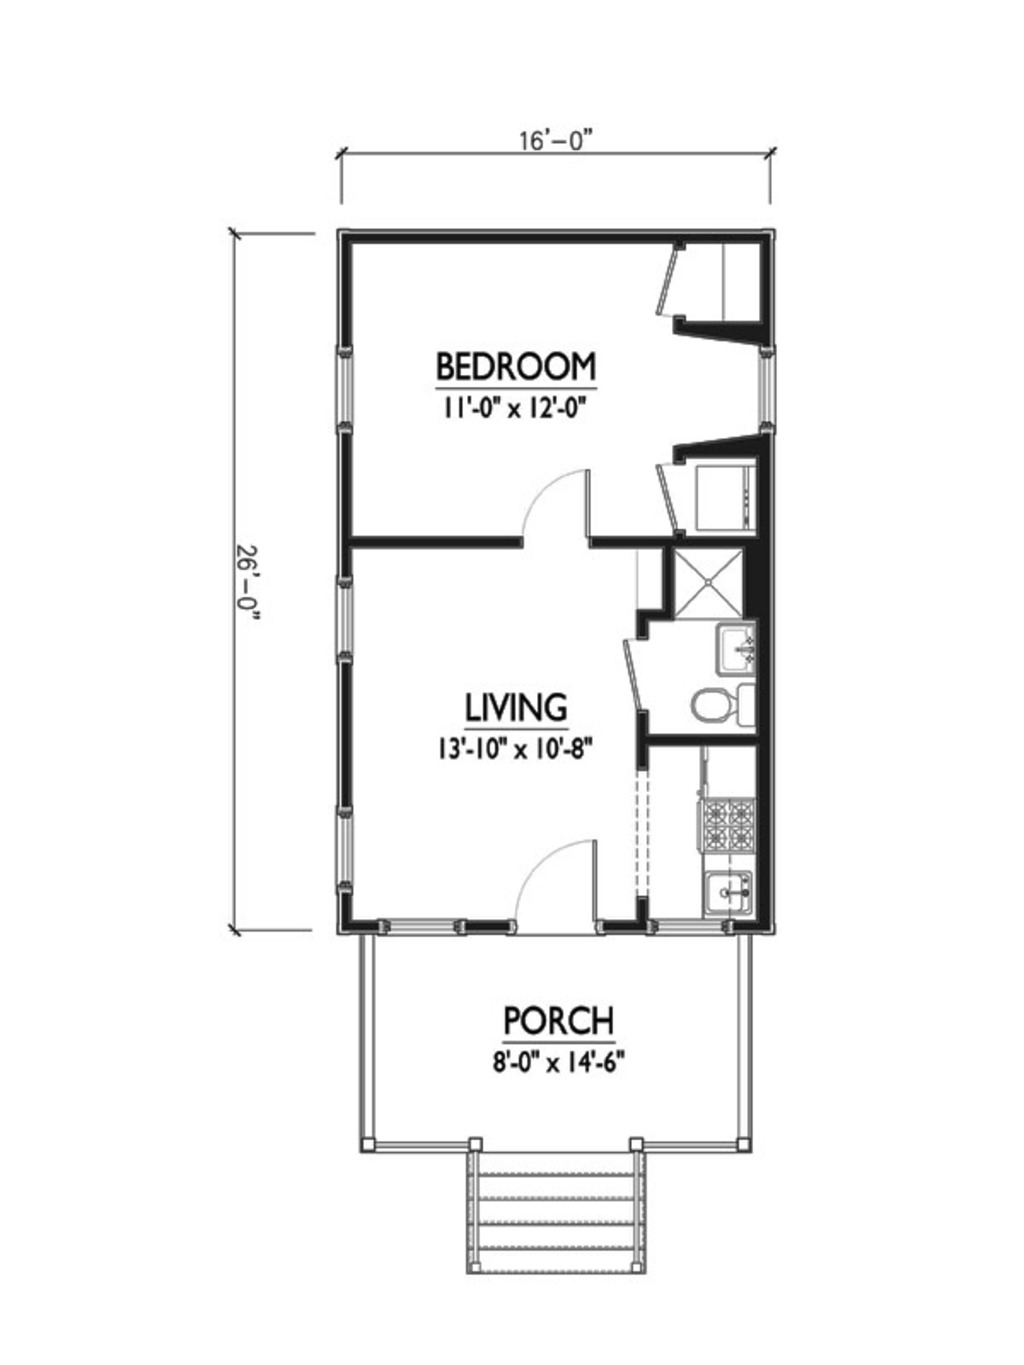door: (513, 836, 598, 943), (514, 466, 594, 544)
large_sink: (686, 676, 760, 727)
small_sink: (711, 618, 757, 679), (702, 865, 753, 915)
stairs: (463, 1138, 648, 1281)
windows: (750, 337, 782, 433), (632, 921, 743, 947), (328, 350, 357, 437), (331, 807, 357, 899), (365, 920, 477, 940), (333, 570, 357, 666)
